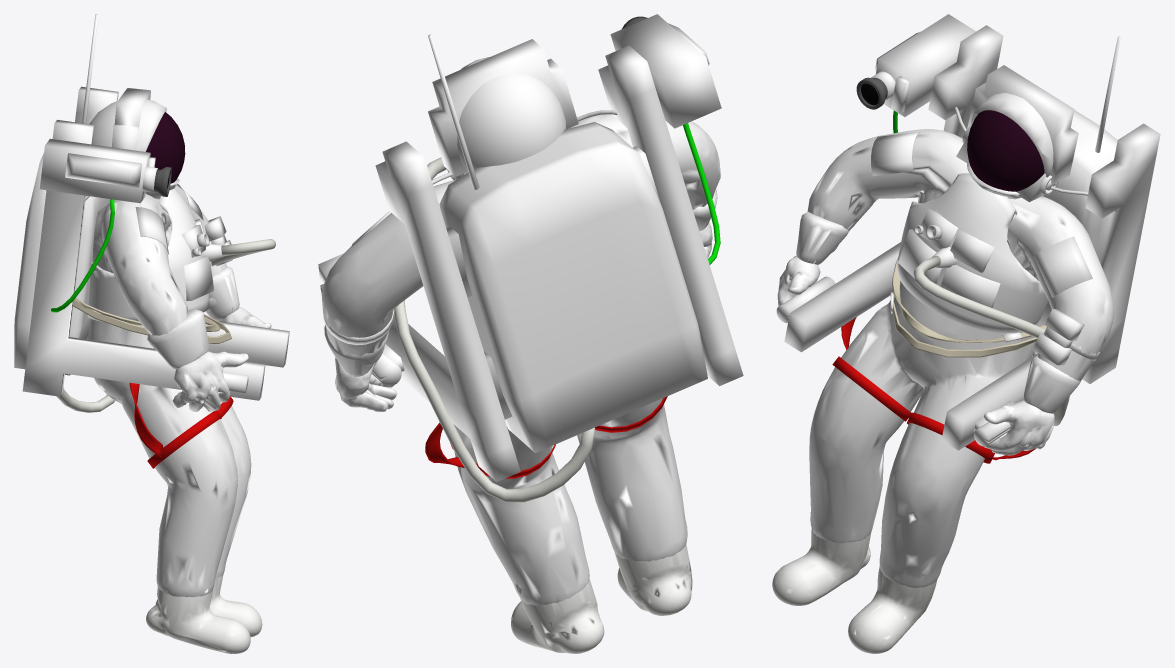
The model's file is astronauta_actual.fbx.
The picture shows the model from 3 angles, left to right: view 1: azimuth 30°, elevation 25°; view 2: azimuth 150°, elevation 25°; view 3: azimuth 270°, elevation 25°; orthographic projection. The views are drawn at different scales.
Visible parts, largest first — view 1: object 48, Quader14, Rucksack, Stiefel_rechts, Brustpanzer, Quader25, Quader17, Quader26, Visier01, Visier, object 41, Extrudieren04 (+10 smaller); view 2: Rucksack, object 48, Quader17, Quader14, Visier01, Quader25, object 41, Extrudieren04, Stiefel_links, Stiefel_rechts, Zylinder18, Extrudieren01 (+3 smaller); view 3: object 48, Quader17, Brustpanzer, Quader14, Visier, Quader25, Stiefel_rechts, Stiefel_links, object 41, Rucksack, Visier01, Extrudieren04 (+14 smaller).
Boxes of the visible parts, box(x1,y1,x2,y2) form: object 48: box(87, 184, 271, 597); Quader14: box(22, 119, 265, 400); Rucksack: box(14, 153, 110, 375); Stiefel_rechts: box(146, 587, 250, 653); Brustpanzer: box(87, 188, 209, 321); Quader25: box(39, 138, 150, 203); Quader17: box(75, 86, 289, 367); Quader26: box(65, 153, 141, 187); Visier01: box(89, 99, 179, 199); Visier: box(146, 112, 185, 183); object 41: box(111, 88, 150, 150); Extrudieren04: box(56, 239, 275, 412); Rucksack: box(439, 122, 707, 452); object 48: box(322, 114, 720, 605); Quader17: box(375, 141, 520, 481); Quader14: box(598, 45, 743, 386); Visier01: box(457, 57, 565, 174); Quader25: box(610, 14, 721, 128); object 41: box(428, 39, 578, 176); Extrudieren04: box(394, 157, 594, 502); Stiefel_links: box(511, 578, 604, 653); Stiefel_rechts: box(614, 544, 692, 615); Zylinder18: box(428, 34, 479, 189); Extrudieren01: box(683, 123, 720, 264); object 48: box(777, 129, 1113, 587); Quader17: box(941, 123, 1160, 450); Brustpanzer: box(896, 173, 1048, 333); Quader14: box(784, 25, 1003, 352); Visier: box(967, 110, 1044, 191); Quader25: box(876, 14, 976, 116); Stiefel_rechts: box(772, 528, 871, 605); Stiefel_links: box(848, 566, 937, 653); object 41: box(967, 65, 1078, 184); Rucksack: box(1038, 110, 1117, 326); Visier01: box(967, 93, 1053, 199); Extrudieren04: box(914, 256, 1069, 425).
Bounding box in the file's own units: 5957 × 11219 × 6634.
